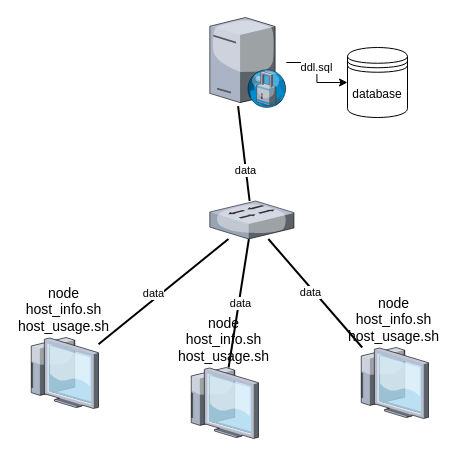
The diagram is 456 pixels wide and 455 high, and some of its shapes have lost their labels. Each missing label, with the centre of its shape:
"central host psql_docker.sh" goes at point (247, 62).
"Network Switch" goes at point (251, 219).
